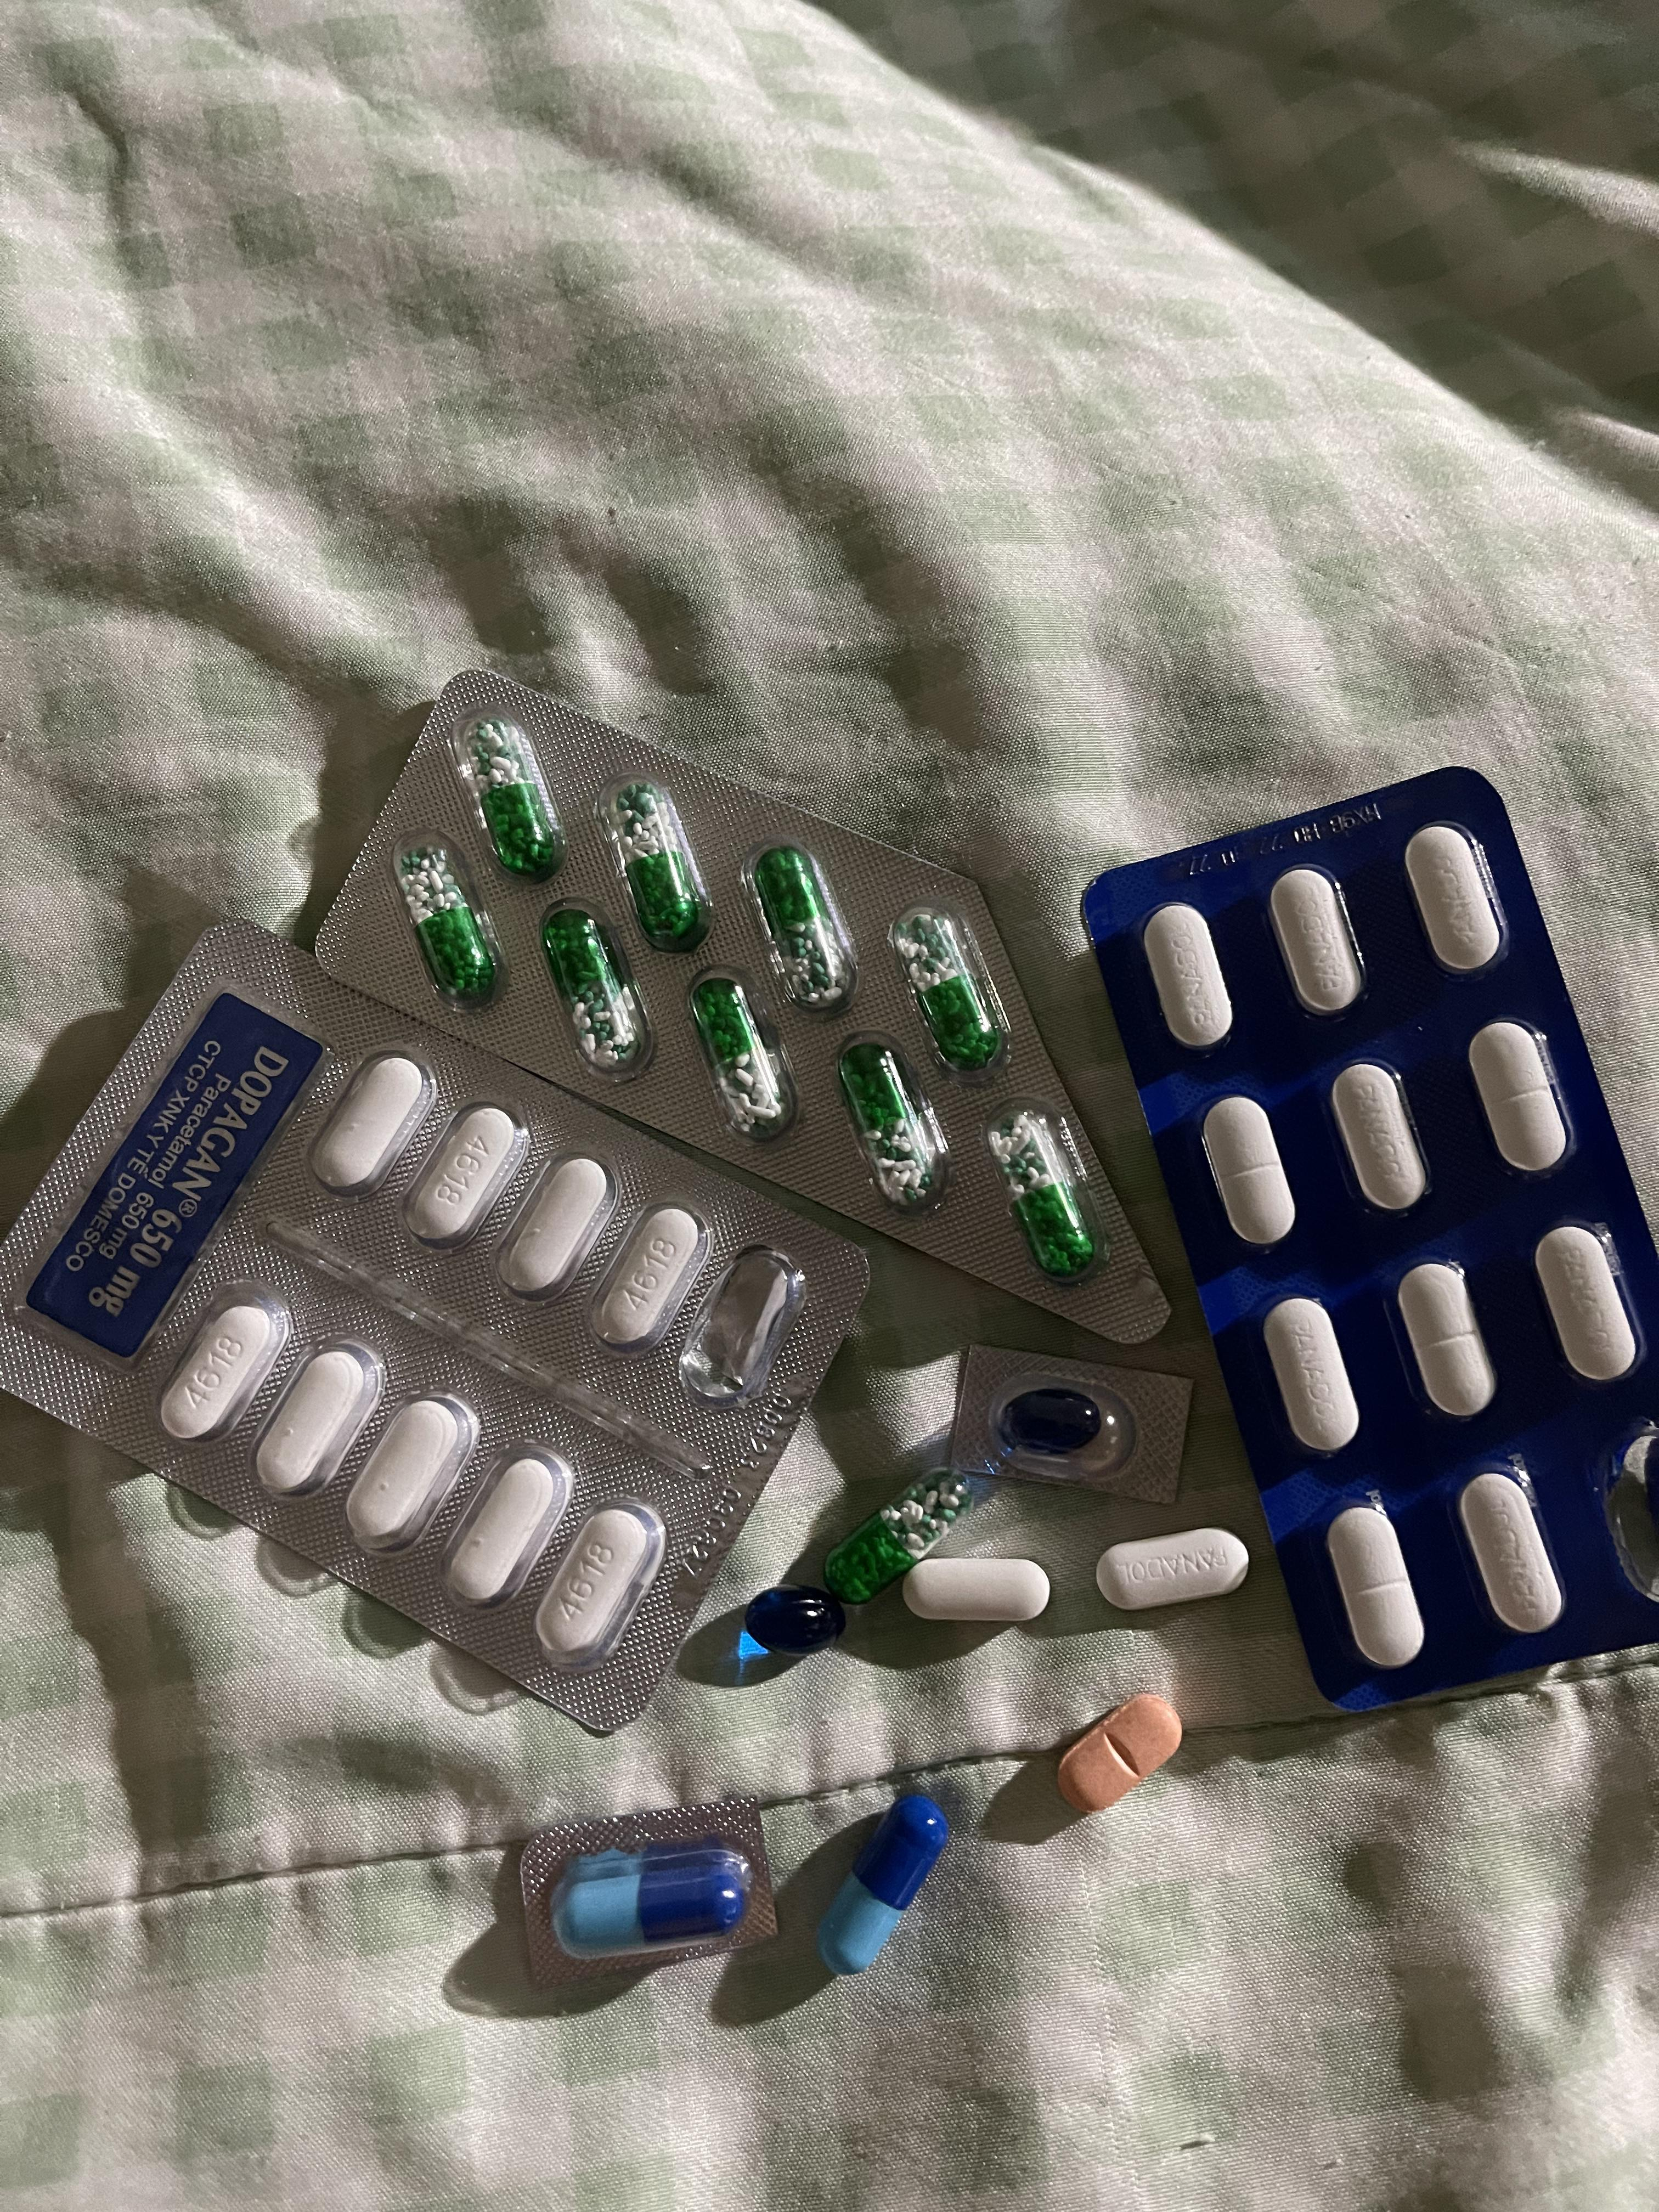Lincomyxin_500mg: (1000, 1386, 1106, 1457), (746, 1585, 843, 1657)
Loratadine_10mg: (1058, 1693, 1175, 1815)
Paracetamol_350mg: (1455, 1472, 1565, 1636), (1534, 1226, 1642, 1386), (1395, 1261, 1498, 1422), (1325, 1501, 1425, 1666), (1330, 1062, 1433, 1217), (1405, 821, 1506, 977), (1468, 1020, 1570, 1175), (1262, 1297, 1360, 1457), (1270, 866, 1368, 1018), (1203, 1095, 1294, 1246), (1142, 905, 1232, 1054), (1098, 1530, 1254, 1611)
Paracetamol_500mg: (535, 1497, 670, 1667), (442, 1439, 574, 1607), (345, 1392, 477, 1556), (161, 1288, 293, 1443), (588, 1198, 712, 1356), (402, 1102, 527, 1251), (493, 1152, 613, 1302), (256, 1344, 372, 1494), (313, 1054, 427, 1190), (903, 1556, 1051, 1623)
Paracetamol_650mg: (825, 1469, 980, 1605), (991, 1109, 1093, 1274), (464, 721, 561, 879), (543, 911, 640, 1069), (840, 1045, 933, 1208), (892, 911, 988, 1068), (758, 850, 848, 1012), (613, 784, 703, 946), (400, 848, 496, 999), (691, 982, 784, 1138)
pill: (553, 1834, 755, 1957), (820, 1795, 945, 1975)
